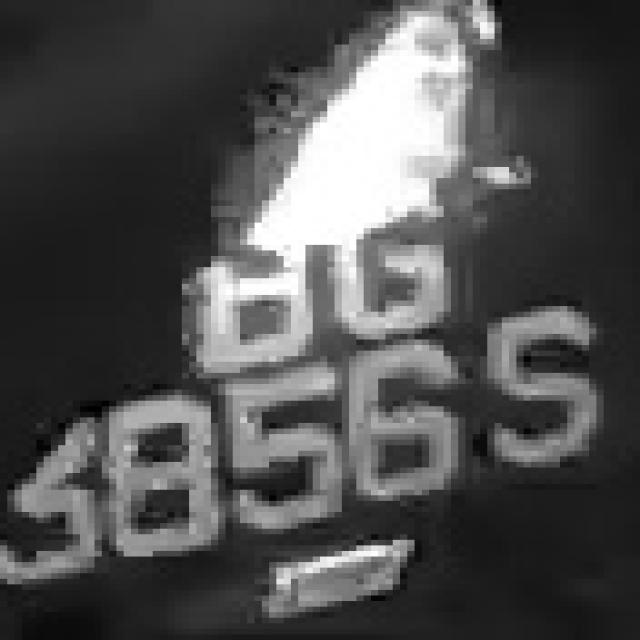3: (0, 395, 102, 618)
5: (211, 351, 356, 528)
6: (335, 339, 480, 512)
8: (95, 390, 232, 562)
B: (167, 212, 335, 368)
G: (328, 178, 466, 340)
S: (451, 295, 589, 484)
